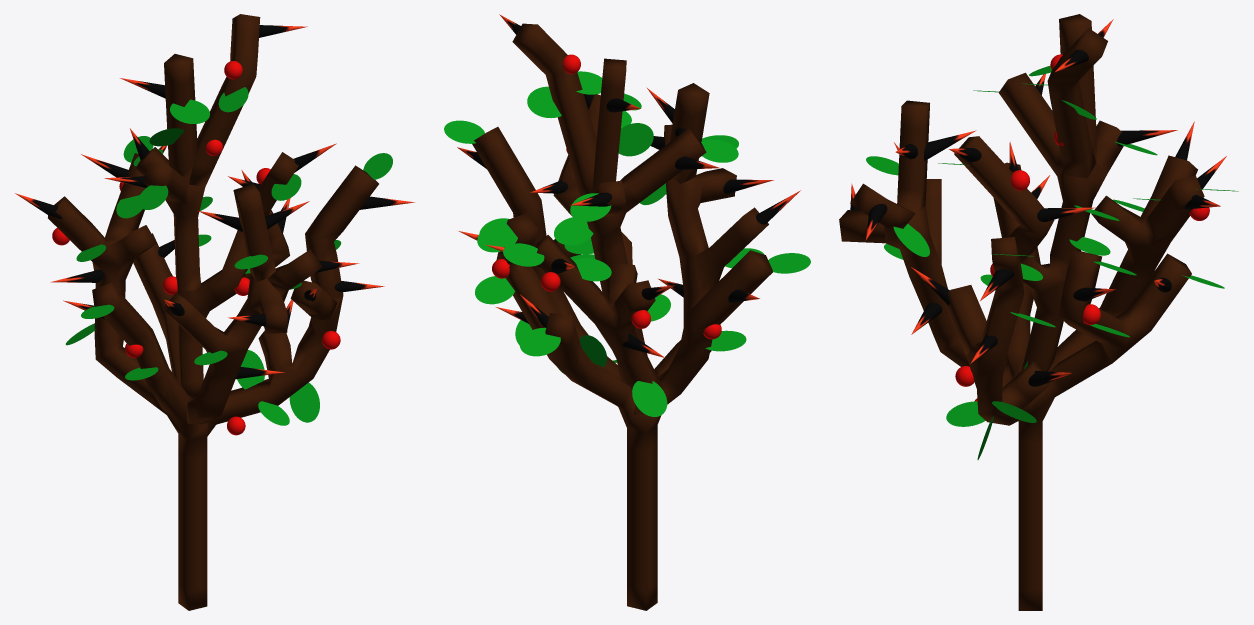
Rendered from spiky_bush_s.fbx.
3 views of the same model, side by side, from view 1: azimuth 30°, elevation 25°; view 2: azimuth 150°, elevation 25°; view 3: azimuth 270°, elevation 25° (orthographic). The views are drawn at different scales.
Parts seen in each view (by area): view 1: Plane, Circle.002, Circle.027, Circle.007, Circle.015, Circle.003; view 2: Plane, Circle.017, Circle.014, Circle.013, Circle.009, Circle.011, Circle.018, Circle.008, Circle.016, Circle.006, Circle.015, Circle.007 (+4 smaller); view 3: Plane, Circle.001, Circle.005.
Part boxes in pixels (x1=…): Plane: x1=48, y1=14, x2=378, y2=610; Circle.002: x1=289, y1=382, x2=319, y2=422; Circle.027: x1=170, y1=99, x2=209, y2=123; Circle.007: x1=138, y1=185, x2=168, y2=209; Circle.015: x1=363, y1=153, x2=392, y2=179; Circle.003: x1=237, y1=350, x2=264, y2=389; Plane: x1=472, y1=23, x2=772, y2=610; Circle.017: x1=632, y1=381, x2=667, y2=416; Circle.014: x1=618, y1=123, x2=653, y2=156; Circle.013: x1=519, y1=327, x2=560, y2=356; Circle.009: x1=475, y1=276, x2=514, y2=304; Circle.011: x1=554, y1=217, x2=593, y2=245; Circle.018: x1=477, y1=223, x2=517, y2=252; Circle.008: x1=503, y1=243, x2=544, y2=266; Circle.016: x1=527, y1=86, x2=561, y2=117; Circle.006: x1=768, y1=253, x2=810, y2=273; Circle.015: x1=444, y1=120, x2=484, y2=143; Circle.007: x1=701, y1=139, x2=738, y2=162; Plane: x1=839, y1=14, x2=1204, y2=610; Circle.001: x1=946, y1=401, x2=985, y2=426; Circle.005: x1=893, y1=223, x2=929, y2=256.
Bounding box in the file's own units: 103 × 162 × 95.51.
